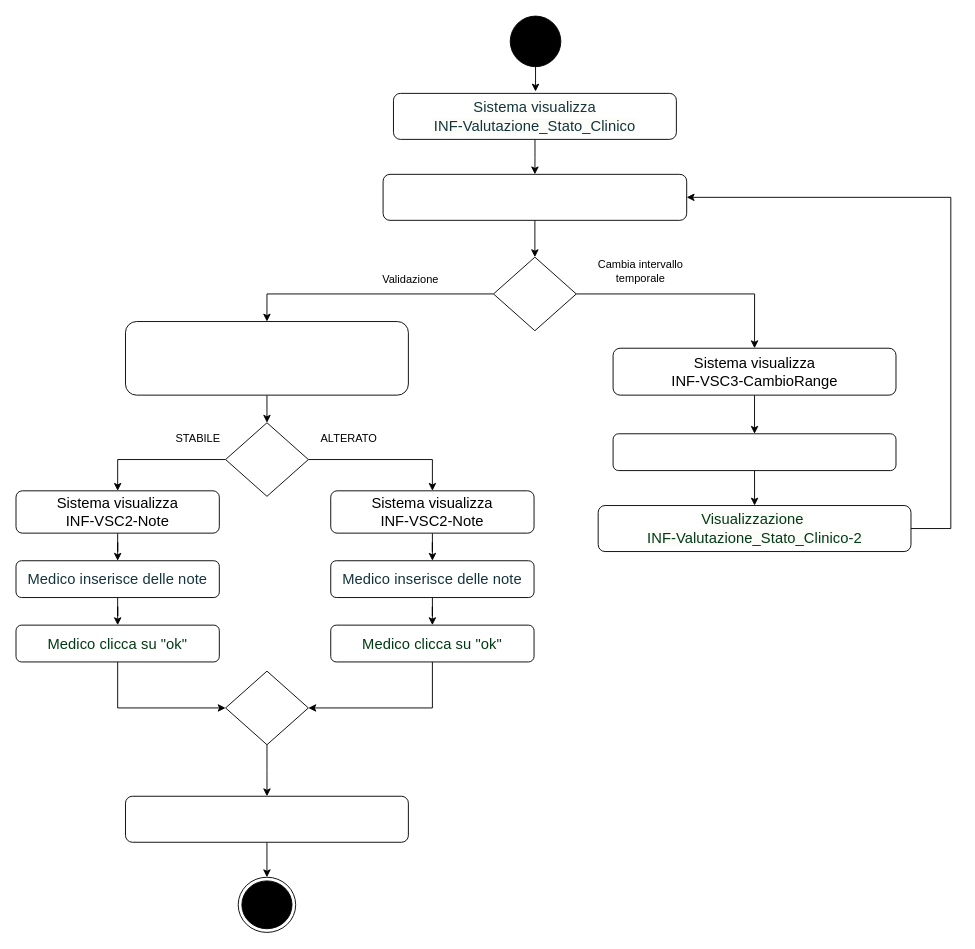
The diagram is 975 pixels wide and 949 high, and some of its shapes have lost their labels. The shapes that lost their labels are listed below. From the top down, each one's box as (x1, y1, x2, y2) in pixels, then its label:
(382, 173, 687, 220): Medico clicca su VALIDAZIONE o CAMBIA INTERVALLO TEMPORALE
(125, 321, 408, 395): Sistema mostra a schermo pop up INF-VSC1-Conferma
(612, 433, 896, 471): Medico clicca su "visualizza dati"
(125, 795, 408, 842): Sistema visualizza FORM_1
